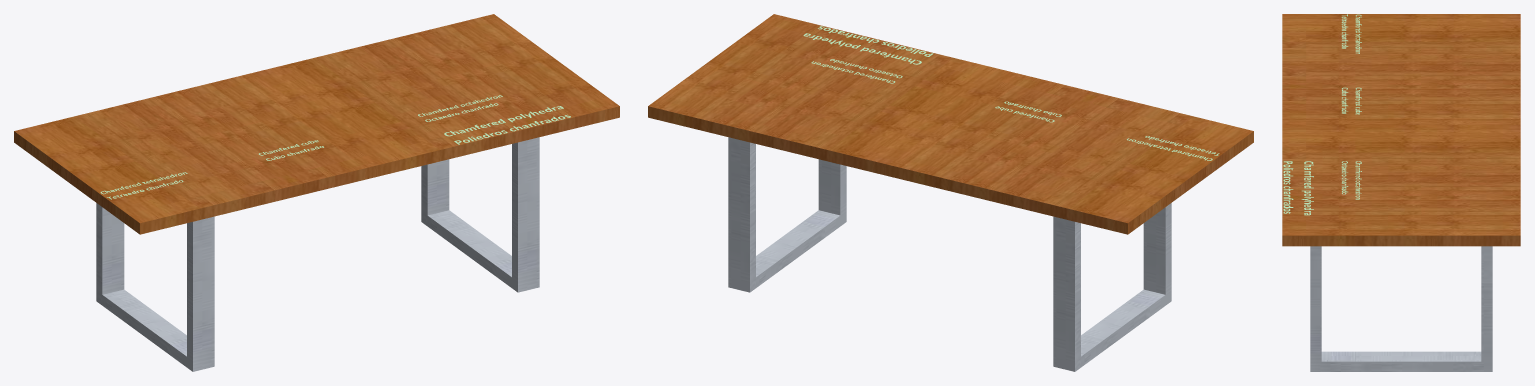
The model's file is chamfered1.glb.
The picture shows the model from 3 angles, left to right: view 1: azimuth 30°, elevation 25°; view 2: azimuth 150°, elevation 25°; view 3: azimuth 270°, elevation 25°; orthographic projection. The views are drawn at different scales.
Visible parts, largest first — view 1: object 1, Composant#1 (×2), Chamfered polyhe; view 2: object 1, Composant#1 (×2), Chamfered polyhe; view 3: object 1, Composant#1, Chamfered polyhe, Chamfered tetrah, Chamfered octahe, Chamfered cube C.
Part boxes in pixels (x1,y1,x2,y2): object 1: (14, 14, 619, 234); Composant#1 (×2): (96, 137, 539, 371); Chamfered polyhe: (444, 106, 570, 144); object 1: (648, 14, 1253, 234); Composant#1 (×2): (728, 137, 1171, 371); Chamfered polyhe: (803, 26, 933, 64); object 1: (1282, 14, 1520, 246); Composant#1: (1310, 246, 1492, 371); Chamfered polyhe: (1283, 161, 1313, 215); Chamfered tetrah: (1341, 14, 1361, 53); Chamfered octahe: (1341, 161, 1361, 199); Chamfered cube C: (1341, 87, 1361, 114).
Size of the model in its own units: 2.2 by 0.7711 by 1.
3 materials, 2 textured.
